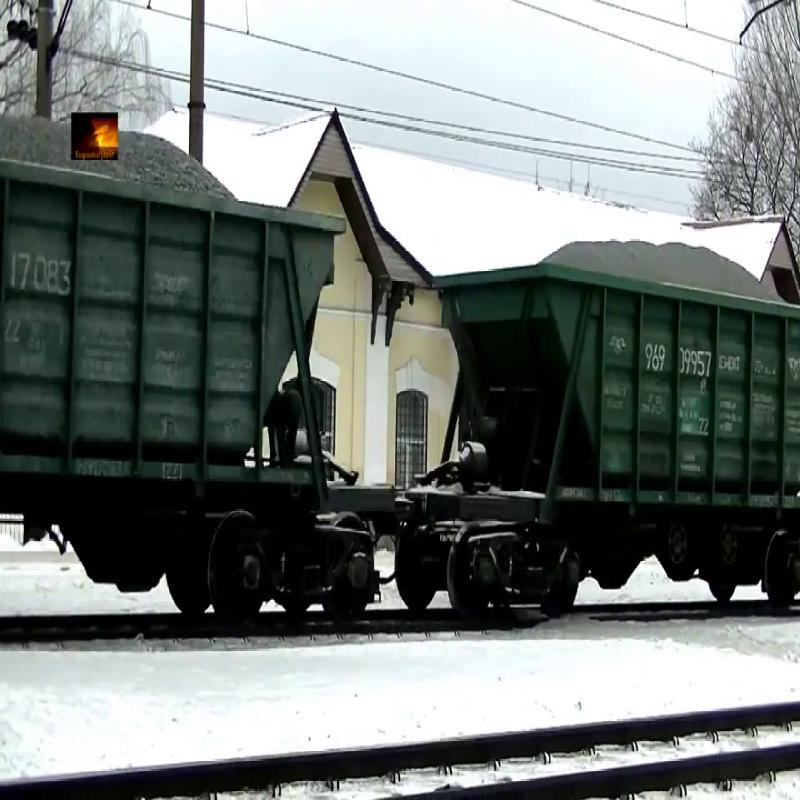train: (1, 136, 347, 613), (422, 239, 800, 631)
